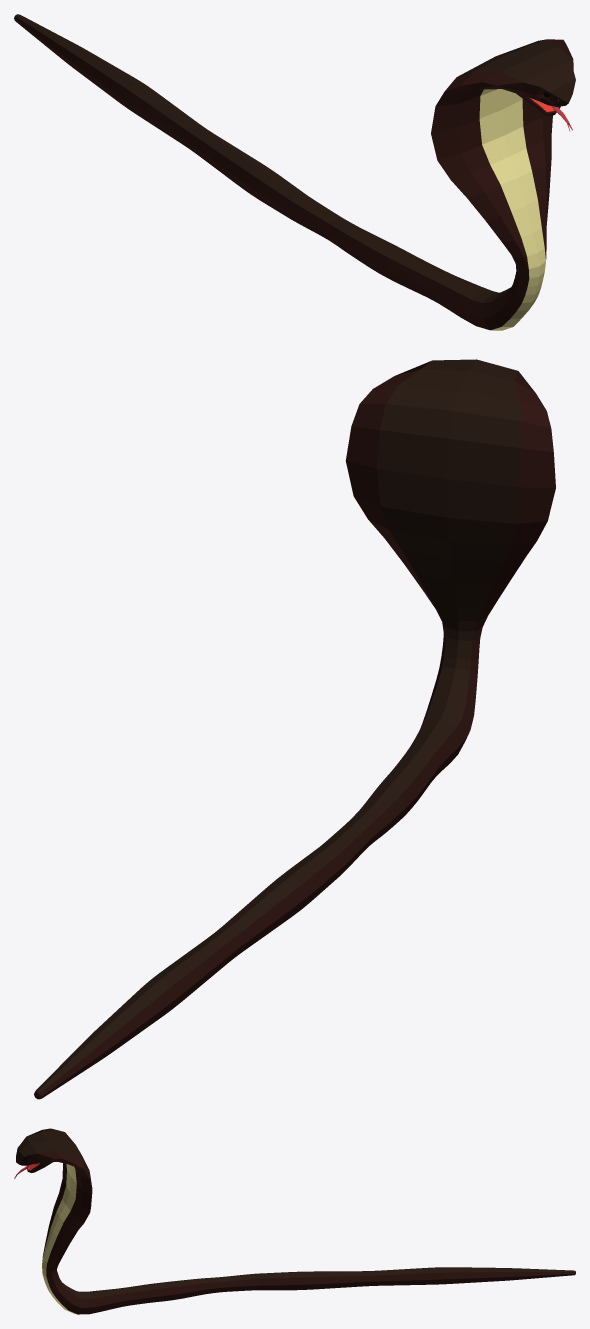
File: snake_-_Animated.fbx
The picture shows the model from 3 angles, top to bottom: view 1: azimuth 30°, elevation 25°; view 2: azimuth 150°, elevation 25°; view 3: azimuth 270°, elevation 25°; orthographic projection. The views are drawn at different scales.
Visible parts, largest first — view 1: Vert.001; view 2: Vert.001; view 3: Vert.001.
Boxes of the visible parts, x1,y1,x2,y2 form: Vert.001: (14,14,575,330); Vert.001: (34,359,555,1099); Vert.001: (14,1128,575,1314).
Size of the model in its own units: 313 by 581 by 1672.
